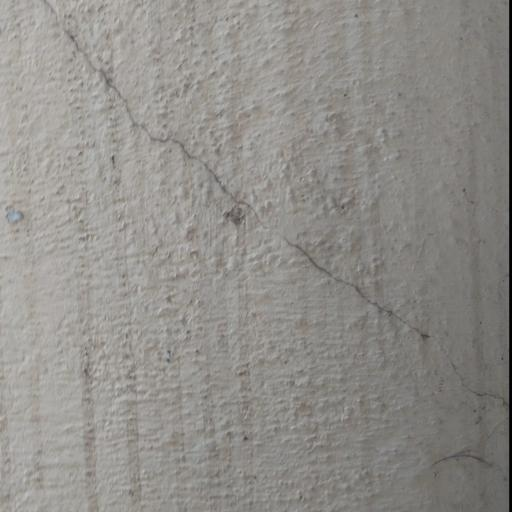minor_crack: (39, 0, 507, 474)
